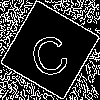C: (25, 25, 72, 79)
